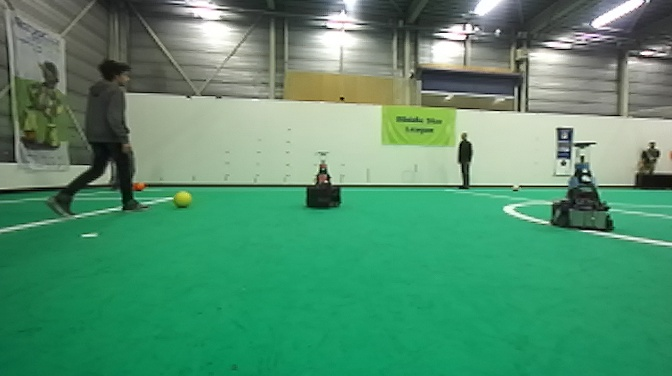ball: (172, 189, 193, 211), (131, 178, 147, 192), (510, 182, 520, 193)
human: (44, 57, 146, 223), (454, 131, 474, 191)
robot: (547, 140, 615, 234), (302, 146, 344, 211)
